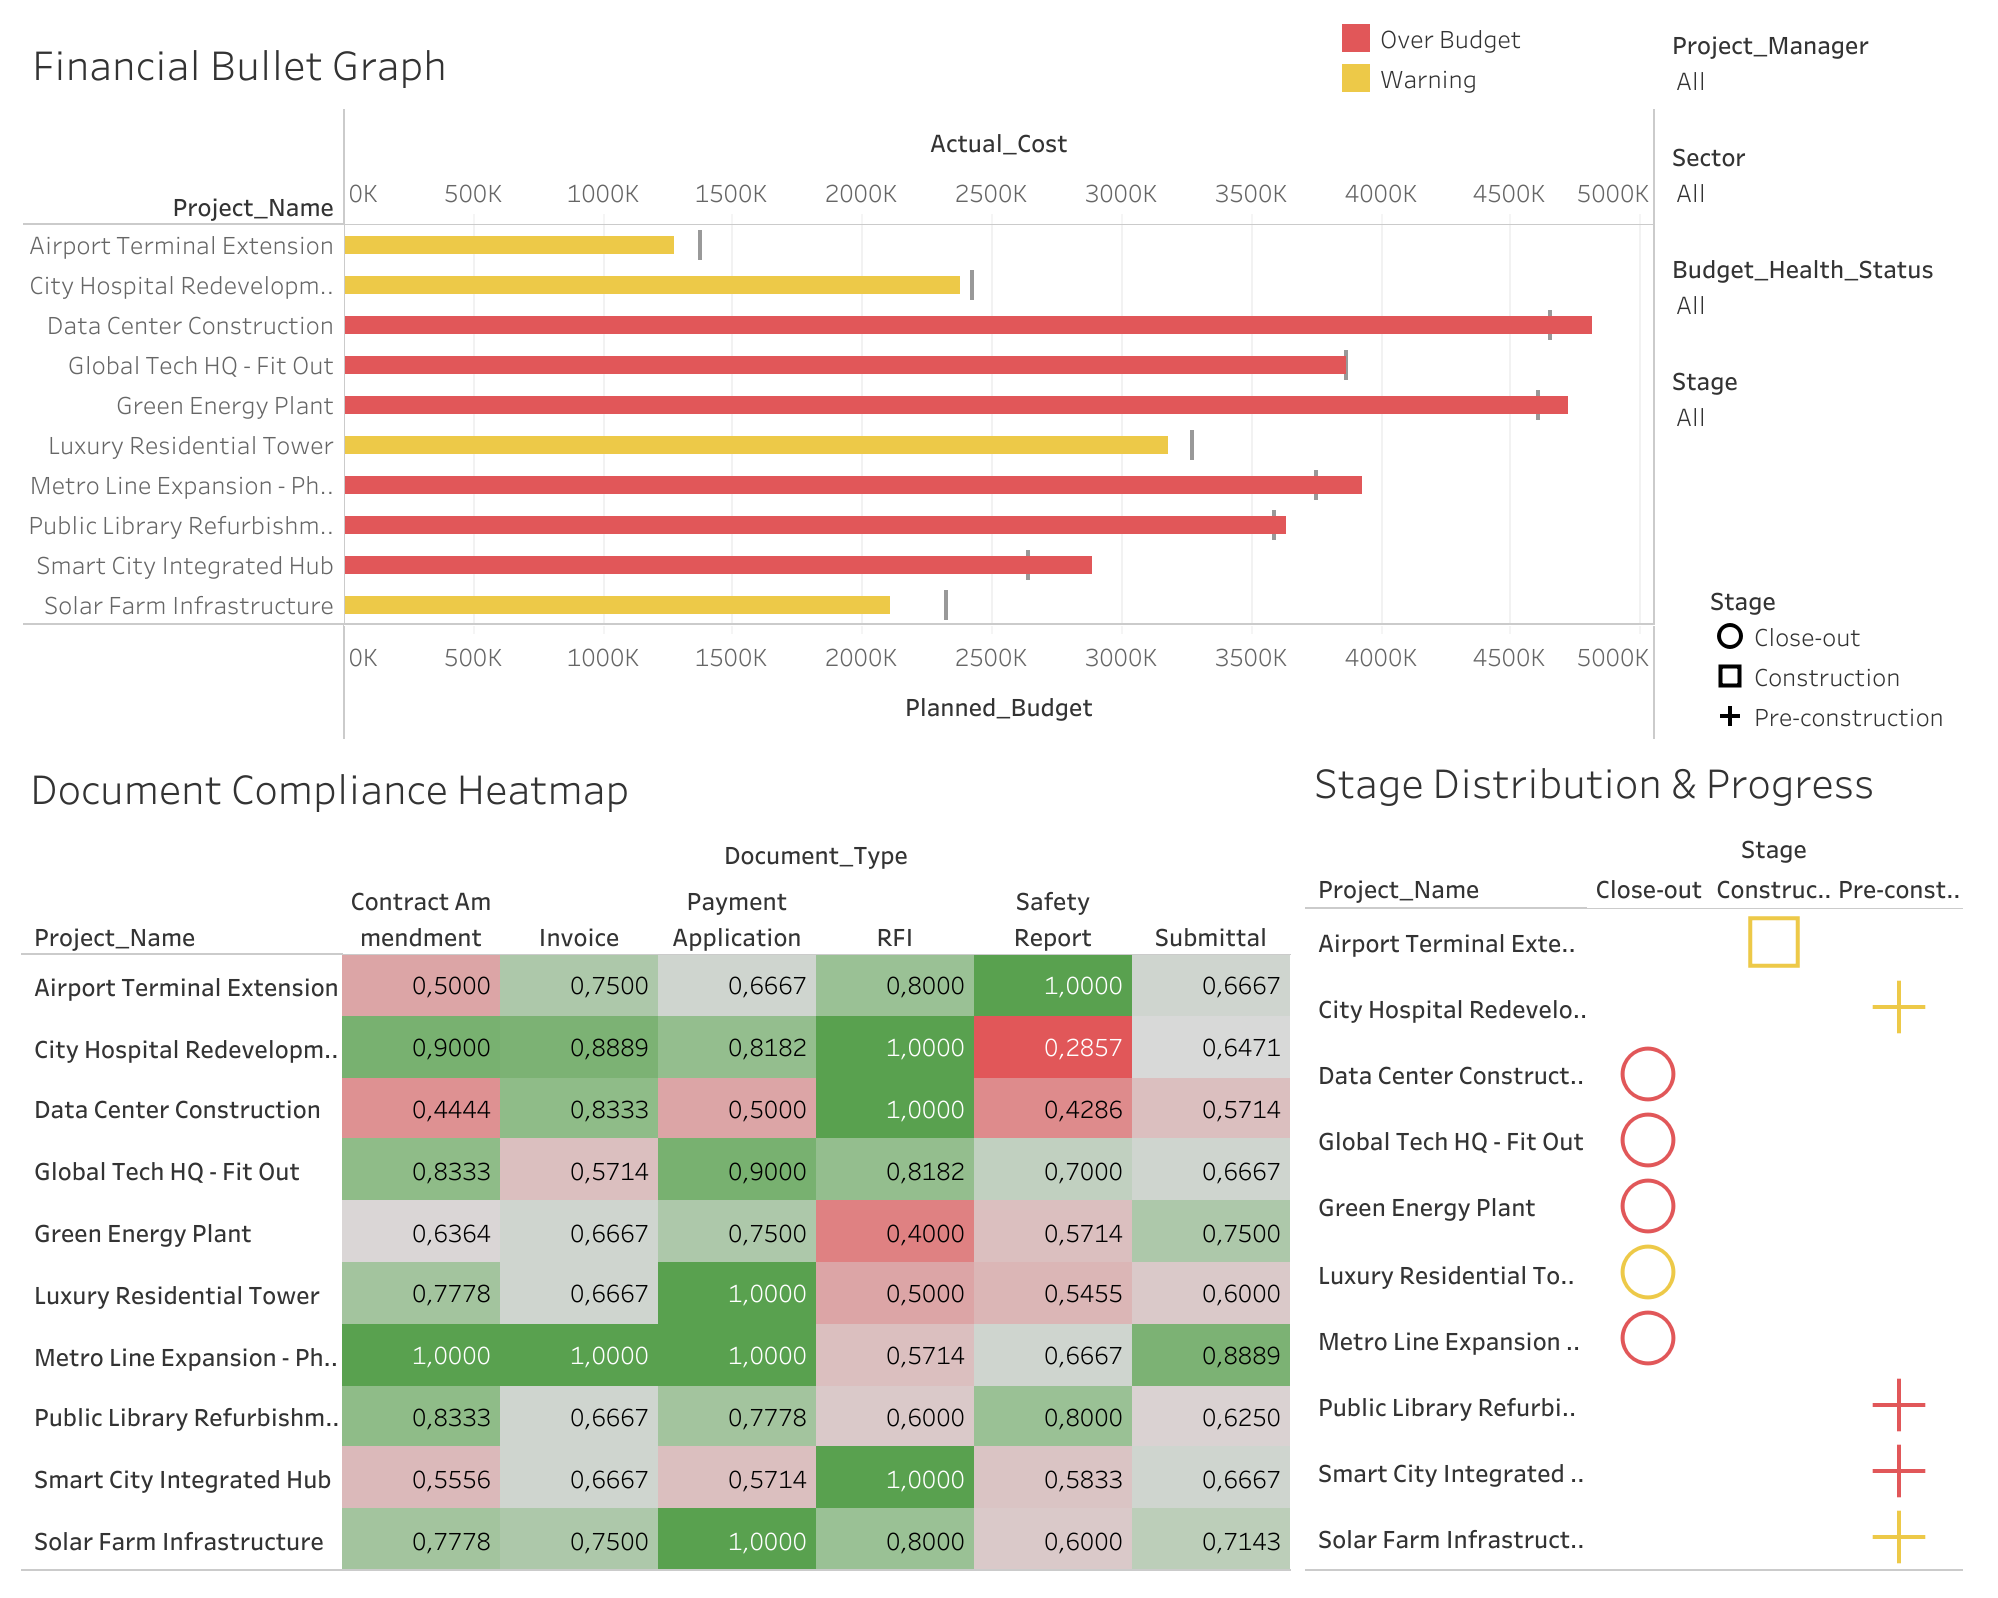

The dashboard page shown, as its layout file describes it:
{"tool":"tableau","page":{"name":"Project Controls & Financial Oversight Dashboard - Q1 2025","canvas":[1000,800],"ordinal":0},"visuals":[{"type":"worksheet","title":"Financial Bullet Graph","mark":"Automatic","rows":["Project_Name"],"cols":["Planned_Budget","Actual_Cost"],"box":[8,8,824,784]},{"type":"filter","title":"Financial Bullet Graph","param":"[federated.0dx6v460v19k2314s66x70qdqyje].[none:Project_Manager:nk]","box":[832,8,160,56]},{"type":"legend","title":"Financial Bullet Graph","param":"[federated.0dx6v460v19k2314s66x70qdqyje].[none:Calculation_0001137239400918:nk]","box":[668,9,152,59]},{"type":"filter","title":"Financial Bullet Graph","param":"[federated.0dx6v460v19k2314s66x70qdqyje].[none:Sector:nk]","box":[832,64,160,56]},{"type":"filter","title":"Financial Bullet Graph","param":"[federated.0dx6v460v19k2314s66x70qdqyje].[none:Calculation_0001137239400918:nk]","box":[832,120,160,56]},{"type":"filter","title":"Financial Bullet Graph","param":"[federated.0dx6v460v19k2314s66x70qdqyje].[none:Stage:nk]","box":[832,176,160,56]},{"type":"legend","title":"Stage Distribution & Progress","param":"[federated.0dx6v460v19k2314s66x70qdqyje].[none:Stage:nk]","box":[854,289,140,79]},{"type":"worksheet","title":"Stage Distribution & Progress","mark":"Shape","rows":["Project_Name"],"cols":["Stage"],"box":[653,371,329,415]},{"type":"worksheet","title":"Document Compliance Heatmap","mark":"Automatic","rows":["Project_Name"],"cols":["Document_Type"],"box":[11,374,635,412]}]}

Visuals, with their boxes in screenshot pixels (x1, y1, x2, y2), scaled from the page's 1000x800 canvas onto the 1998x1598 screenshot:
"Financial Bullet Graph" worksheet: box=[16, 16, 1662, 1582]
"Financial Bullet Graph" filter: box=[1662, 16, 1982, 128]
"Financial Bullet Graph" legend: box=[1335, 18, 1638, 136]
"Financial Bullet Graph" filter: box=[1662, 128, 1982, 240]
"Financial Bullet Graph" filter: box=[1662, 240, 1982, 352]
"Financial Bullet Graph" filter: box=[1662, 352, 1982, 463]
"Stage Distribution & Progress" legend: box=[1706, 577, 1986, 735]
"Stage Distribution & Progress" worksheet (Shape marks): box=[1305, 741, 1962, 1570]
"Document Compliance Heatmap" worksheet: box=[22, 747, 1291, 1570]
